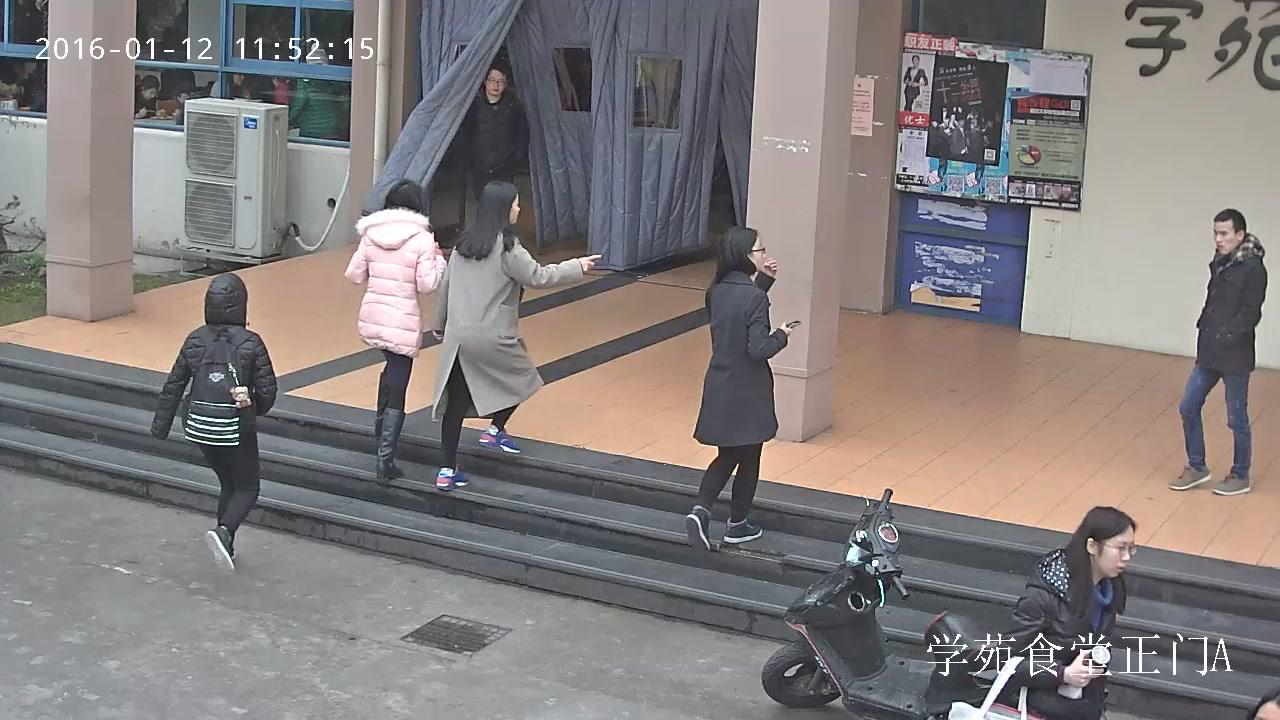person: (430, 180, 603, 492), (946, 506, 1138, 720), (149, 272, 278, 572), (685, 226, 801, 555), (343, 177, 446, 484), (1168, 207, 1268, 495), (462, 64, 530, 224), (287, 41, 348, 139), (902, 54, 928, 112), (210, 70, 251, 102), (133, 73, 160, 118)
